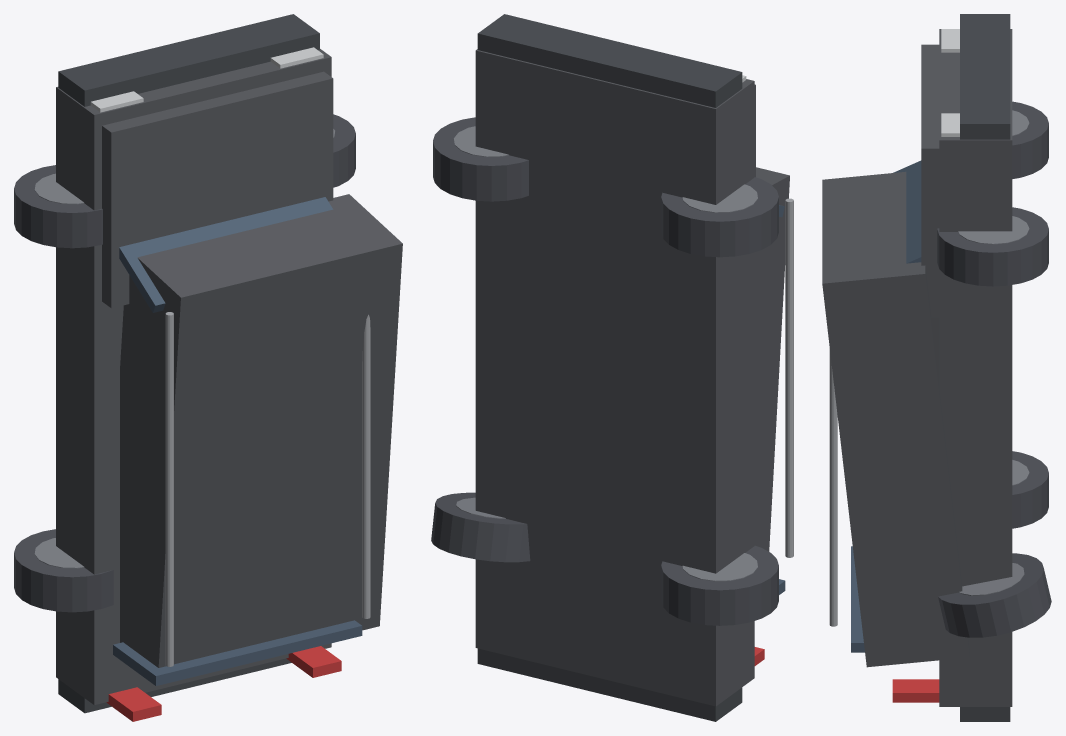
Rendered from vehicle_suv_damaged.glb.
3 views of the same model, side by side, from view 1: azimuth 30°, elevation 25°; view 2: azimuth 150°, elevation 25°; view 3: azimuth 270°, elevation 25° (orthographic). The views are drawn at different scales.
Visible parts, largest first — view 1: world; view 2: world; view 3: world.
Part boxes in pixels (x1=…): world: x1=14, y1=14, x2=402, y2=721; world: x1=431, y1=14, x2=793, y2=721; world: x1=822, y1=14, x2=1051, y2=721.
Bounding box in the file's own units: 2.72 × 4.96 × 1.73.
